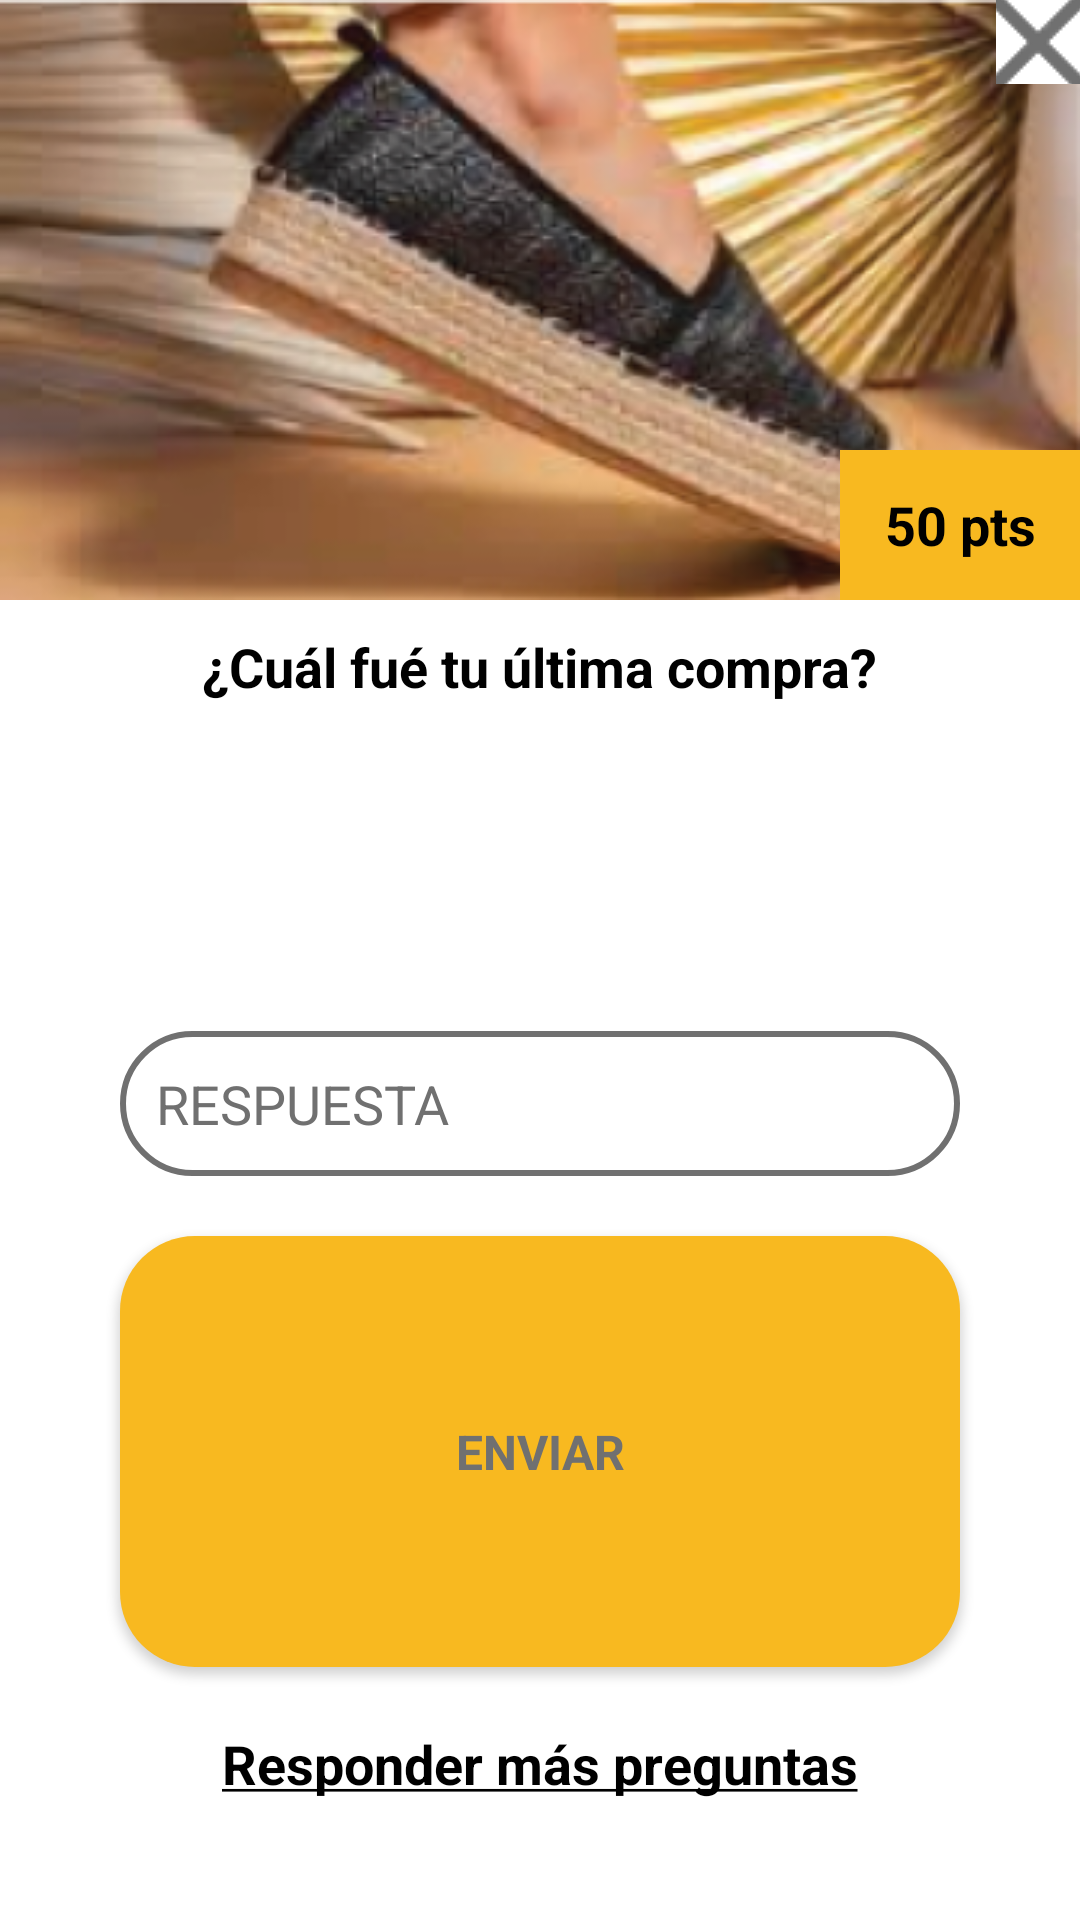

Screen size 1080px×1920px. Icon name, then its center in pixels as (x=x, y=y):
close: (x=1038, y=42)
